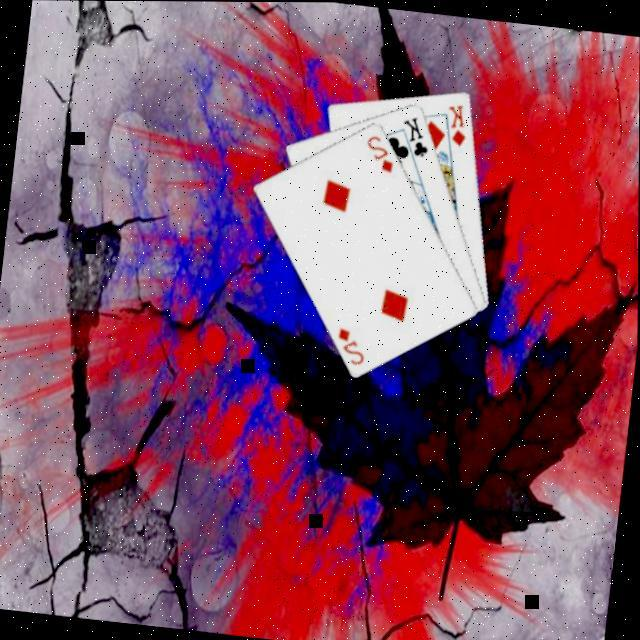2D: (362, 129, 400, 174), (334, 322, 372, 367)
KC: (396, 110, 437, 166)
KD: (443, 99, 474, 148)
